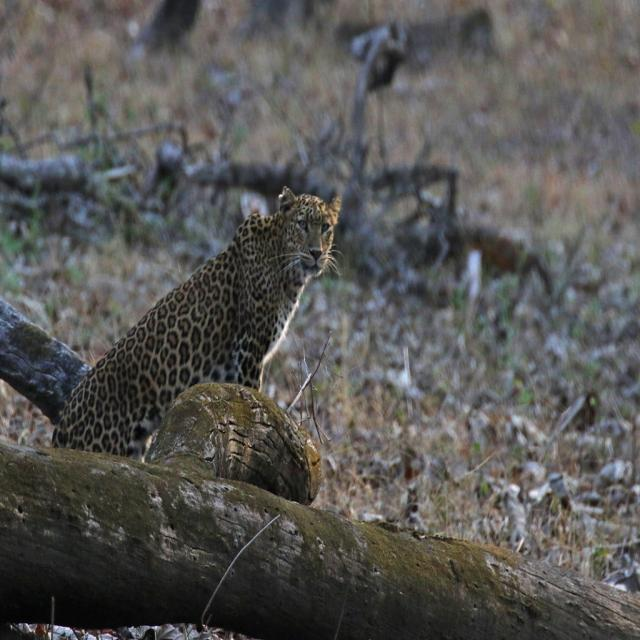Leopard: (49, 194, 340, 463)
